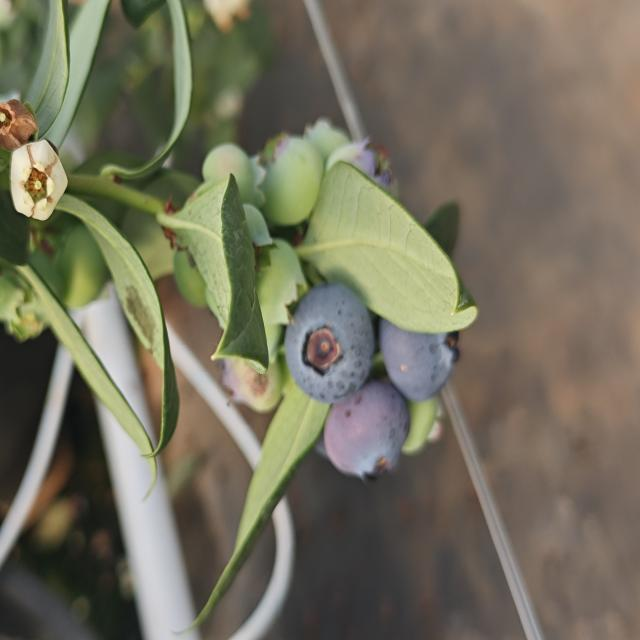ripe: (314, 377, 419, 487), (279, 284, 370, 404), (365, 301, 455, 398)
